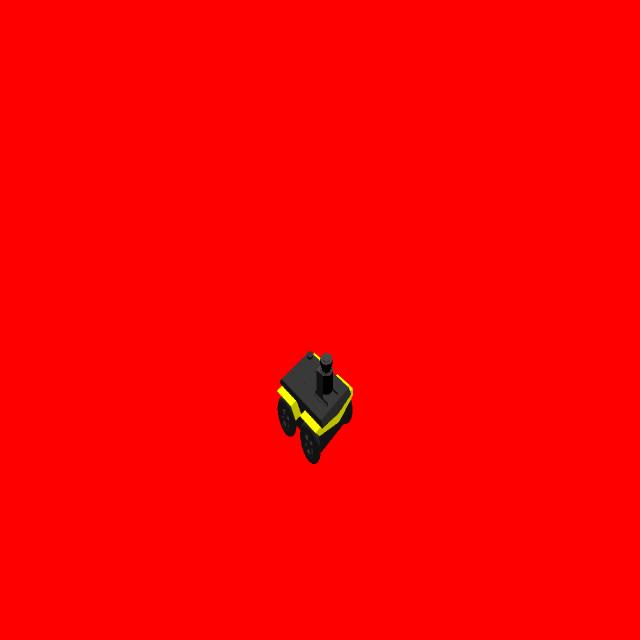jackal: (276, 347, 355, 468)
